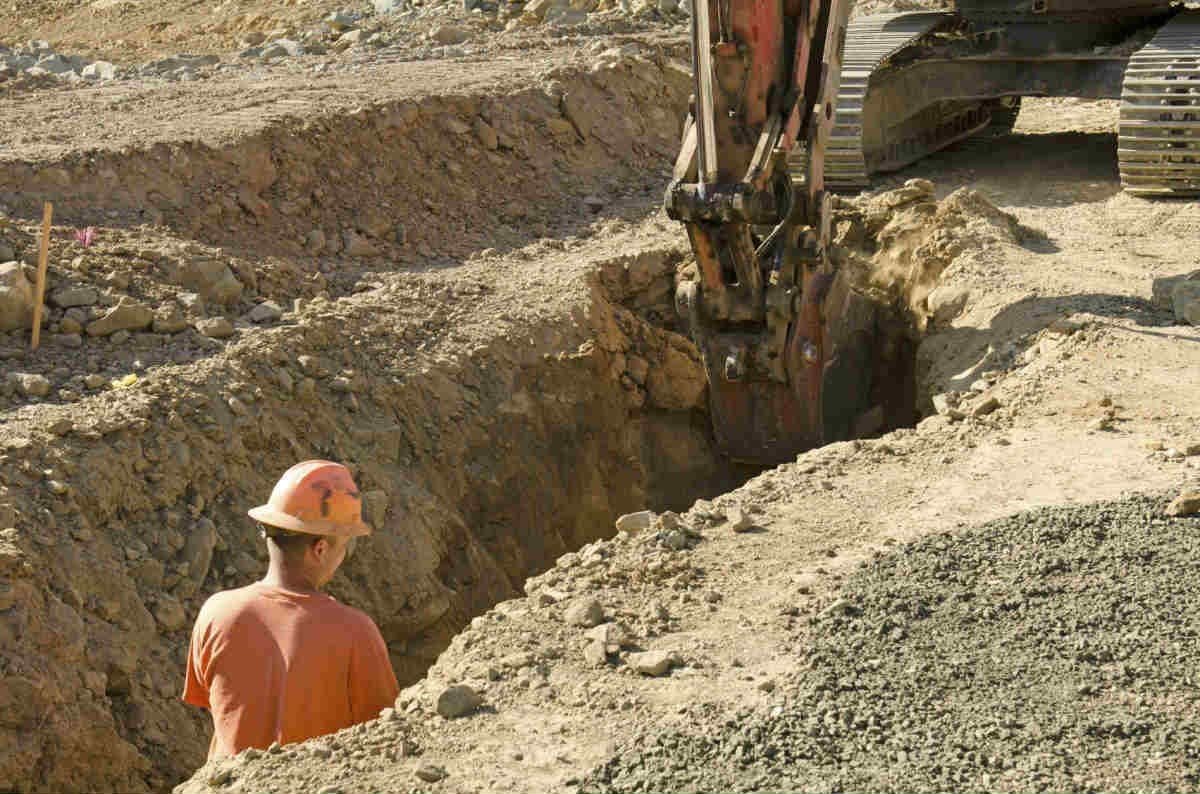red: (251, 452, 365, 584)
